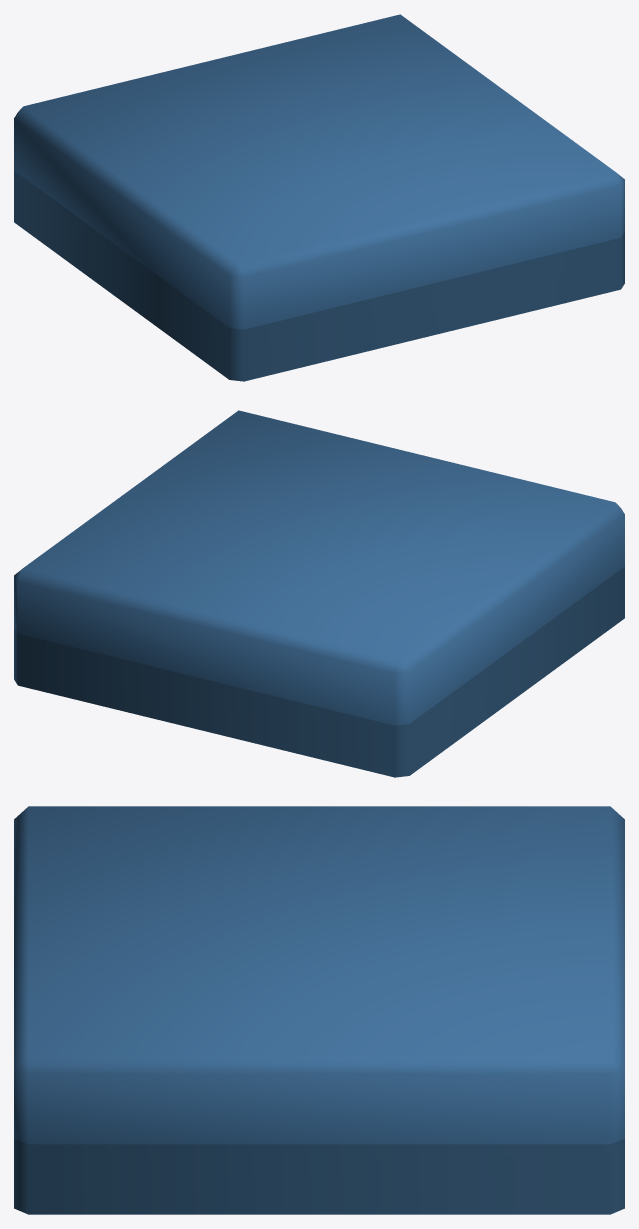
The model's file is RoofAdd_2_D_3.fbx.
3 renders of one model, top to bottom at view 1: azimuth 30°, elevation 25°; view 2: azimuth 150°, elevation 25°; view 3: azimuth 270°, elevation 25°, orthographic. The views are drawn at different scales.
Parts seen in each view (by area): view 1: RoofAdd_2_D_3; view 2: RoofAdd_2_D_3; view 3: RoofAdd_2_D_3.
Part boxes in pixels (x1,y1,x2,y2): RoofAdd_2_D_3: (14, 14, 624, 381); RoofAdd_2_D_3: (14, 410, 624, 777); RoofAdd_2_D_3: (14, 806, 624, 1214).
Bounding box in the file's own units: 270 × 74.17 × 267.
